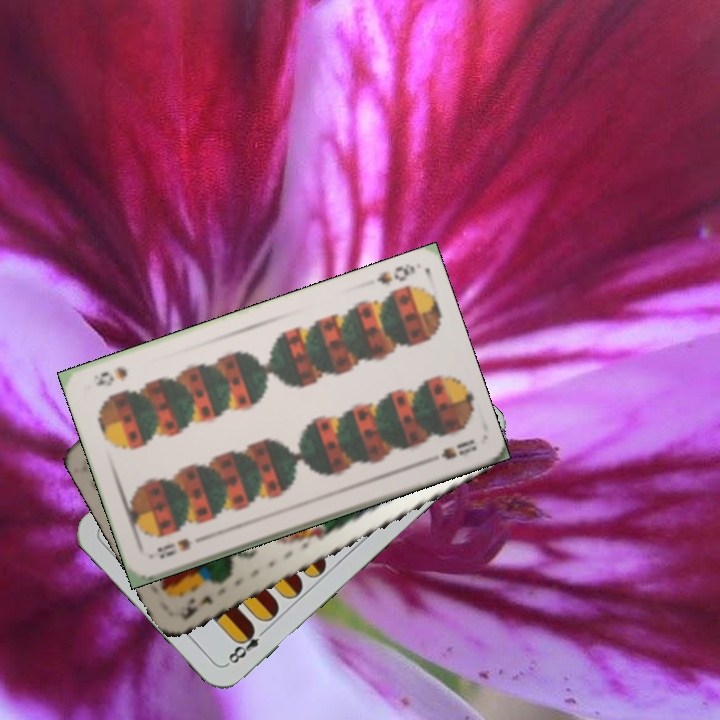E8: (222, 622, 271, 668)
EK: (177, 591, 215, 623)
S8: (372, 259, 418, 289), (153, 534, 194, 561)
